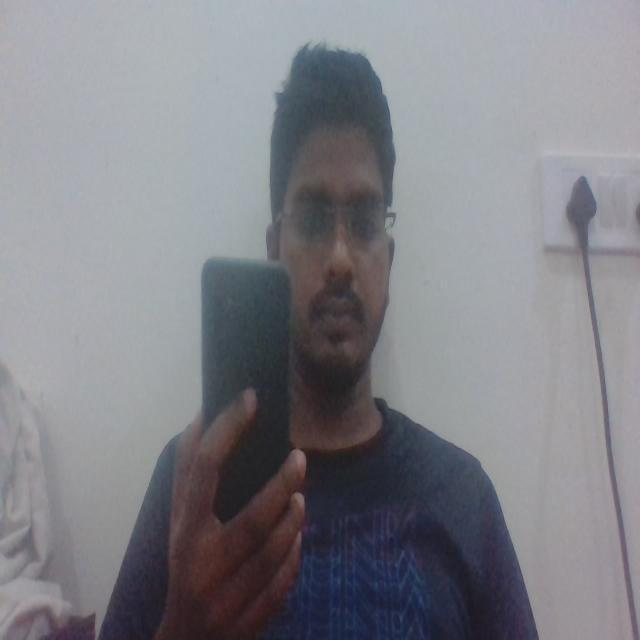Phone: (197, 253, 294, 514)
